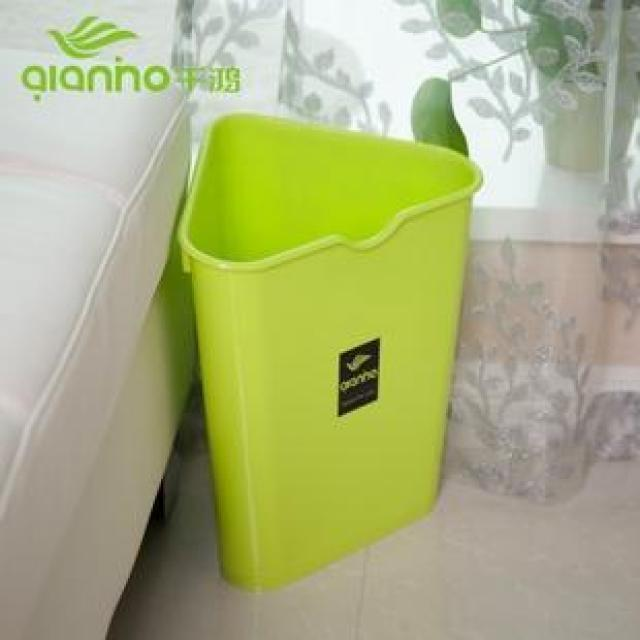dustbin: (172, 103, 488, 597)
